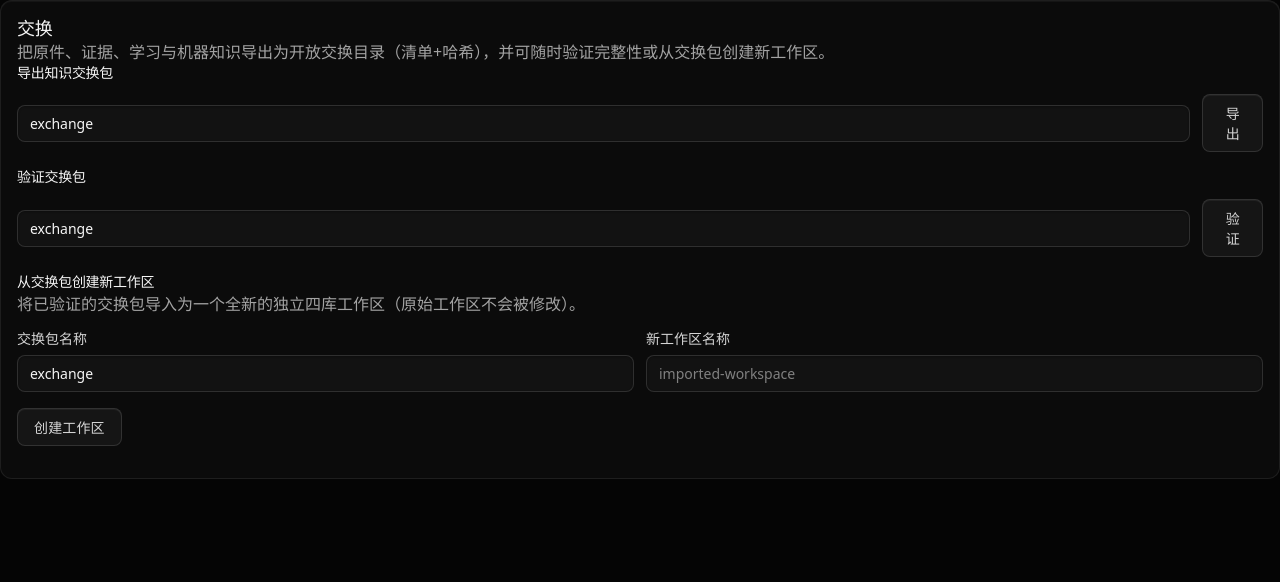
Test: ExchangeSpace › surfaces a failed verification as an error, never as success
Click the button "验证": coordinates (1233, 228) [1202, 199, 1263, 257]
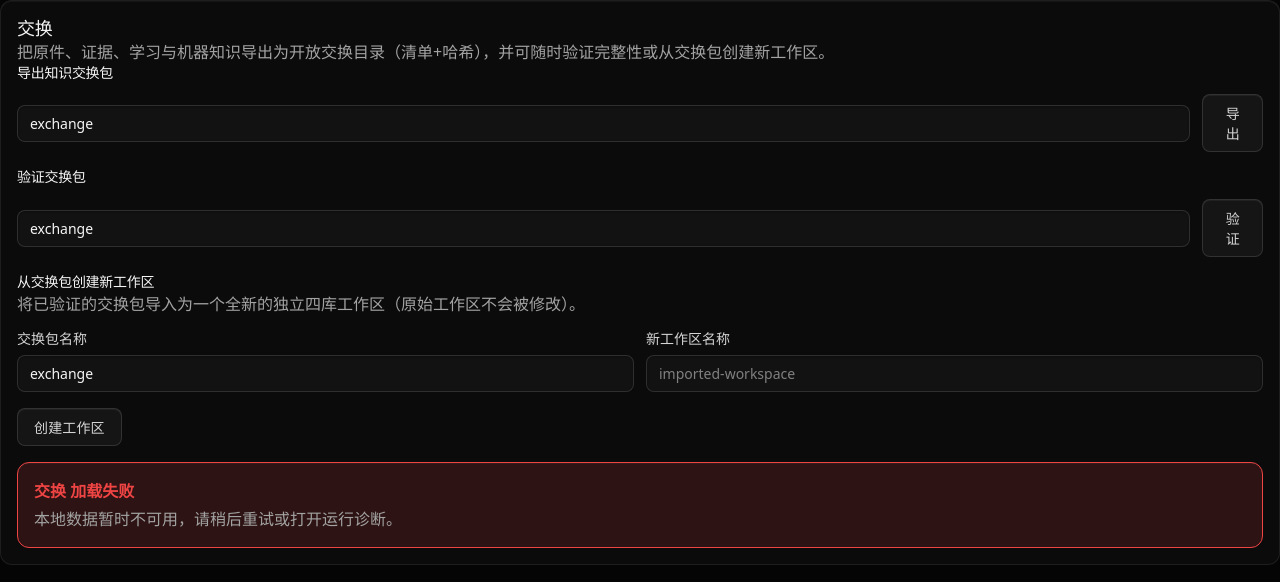
Check: the text "本地数据暂时不可用，请稍后重试或打开运行诊断。" is shown, box [34, 508, 402, 530]
